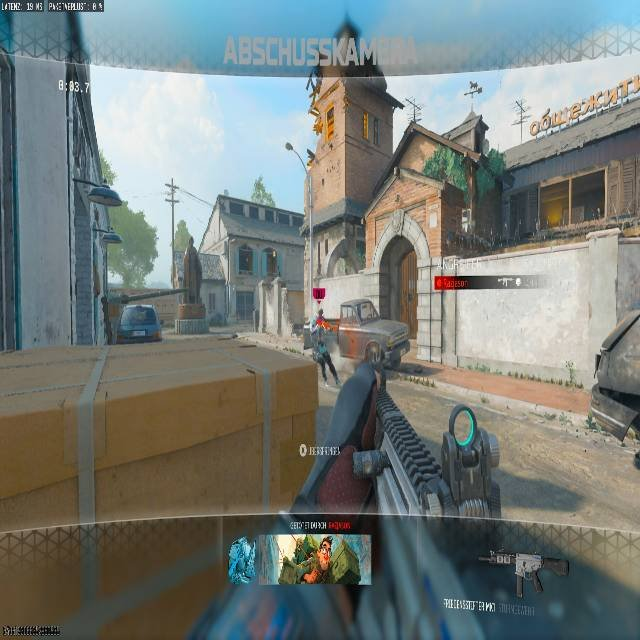head: (317, 308, 325, 317)
player: (307, 309, 340, 386)
